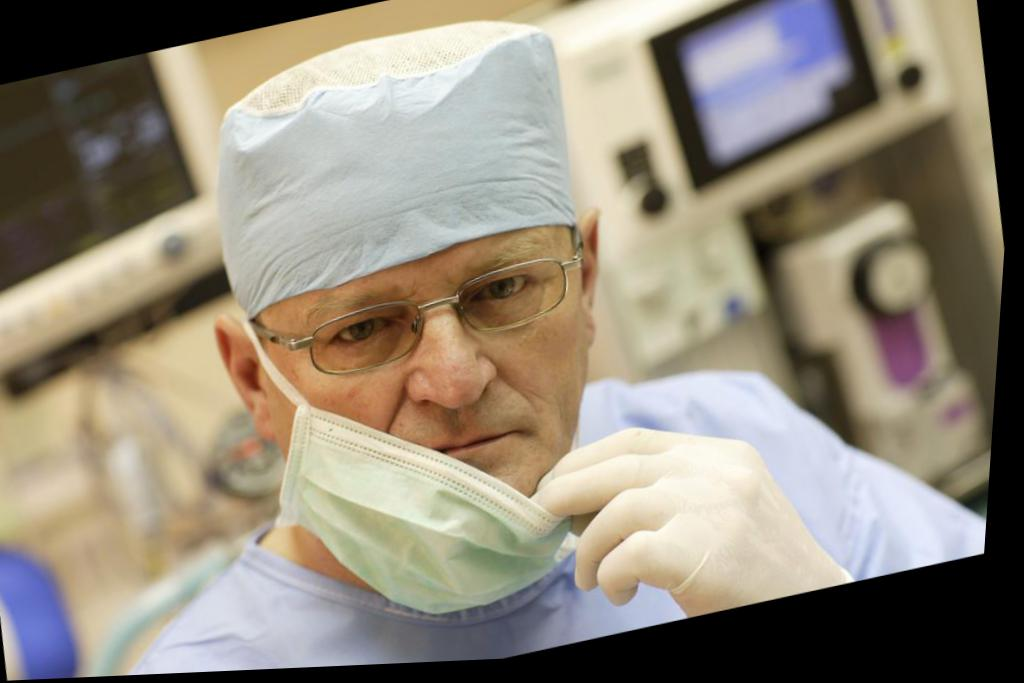WRONG: (253, 206, 651, 597)
